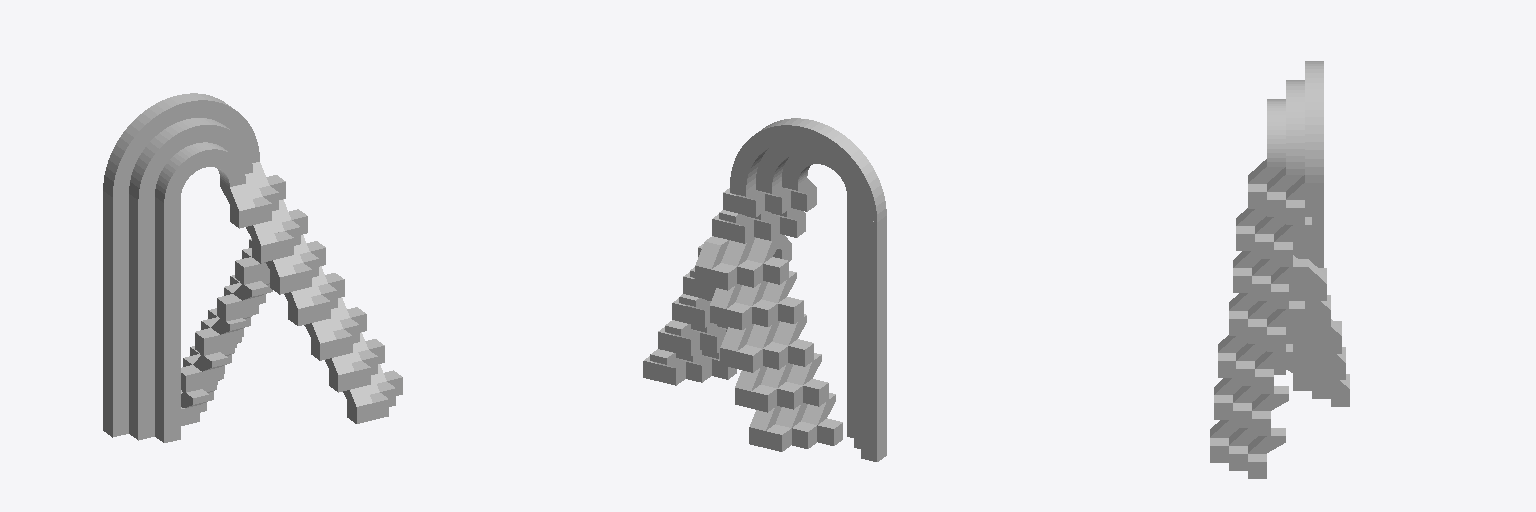
File: puerta.obj
3 views of the same model, side by side, from view 1: azimuth 30°, elevation 25°; view 2: azimuth 150°, elevation 25°; view 3: azimuth 270°, elevation 25° (orthographic).
Visible parts, largest first — view 1: obj_0_puerta; view 2: obj_0_puerta; view 3: obj_0_puerta.
Part boxes in pixels (left/top/right/bottom): obj_0_puerta: left=103, top=93, right=402, bottom=442; obj_0_puerta: left=643, top=118, right=886, bottom=461; obj_0_puerta: left=1210, top=61, right=1349, bottom=478.
Bounding box in the file's own units: 80 × 92.5 × 37.